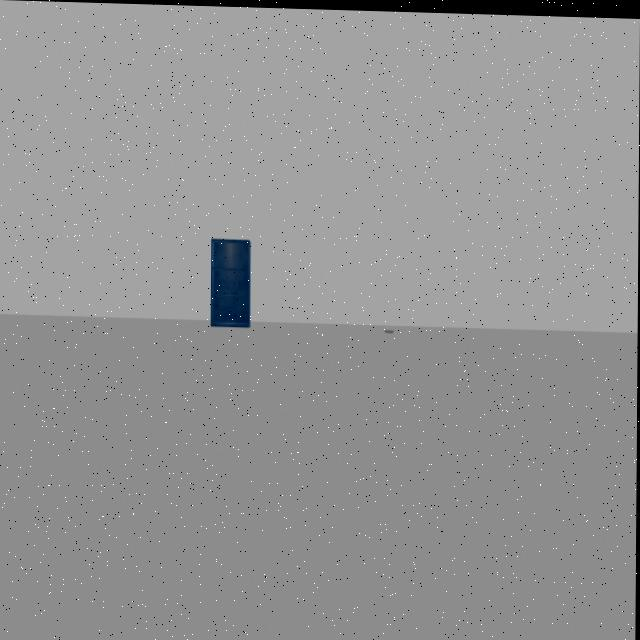bowl: (382, 321, 397, 338)
shelf: (205, 228, 257, 332)
